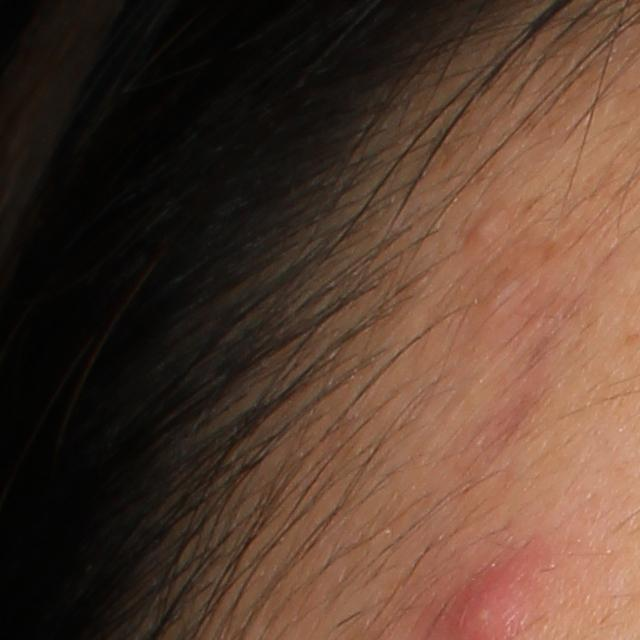papule: (479, 278, 522, 329), (470, 215, 501, 249)
